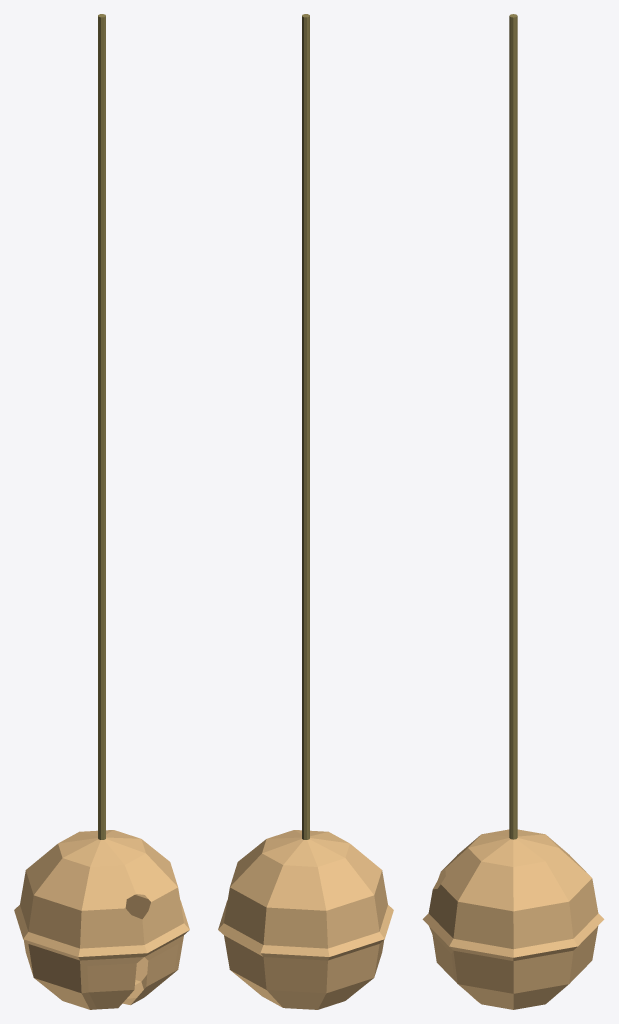
The model's file is Bell.glb.
3 views of the same model, side by side, from view 1: azimuth 30°, elevation 25°; view 2: azimuth 150°, elevation 25°; view 3: azimuth 270°, elevation 25° (orthographic).
Visible parts, largest first — view 1: Sphere, Cylinder; view 2: Sphere, Cylinder; view 3: Sphere, Cylinder.
Part boxes in pixels (bbox=[...]): Sphere: bbox=[14, 830, 189, 1009]; Cylinder: bbox=[98, 14, 105, 839]; Sphere: bbox=[218, 830, 393, 1009]; Cylinder: bbox=[302, 14, 309, 839]; Sphere: bbox=[422, 829, 604, 1009]; Cylinder: bbox=[509, 14, 517, 839].
Bounding box in the file's own units: 2 × 11.95 × 2.
